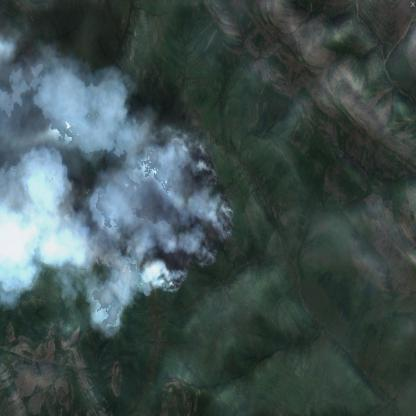fire: (61, 122, 236, 290)
